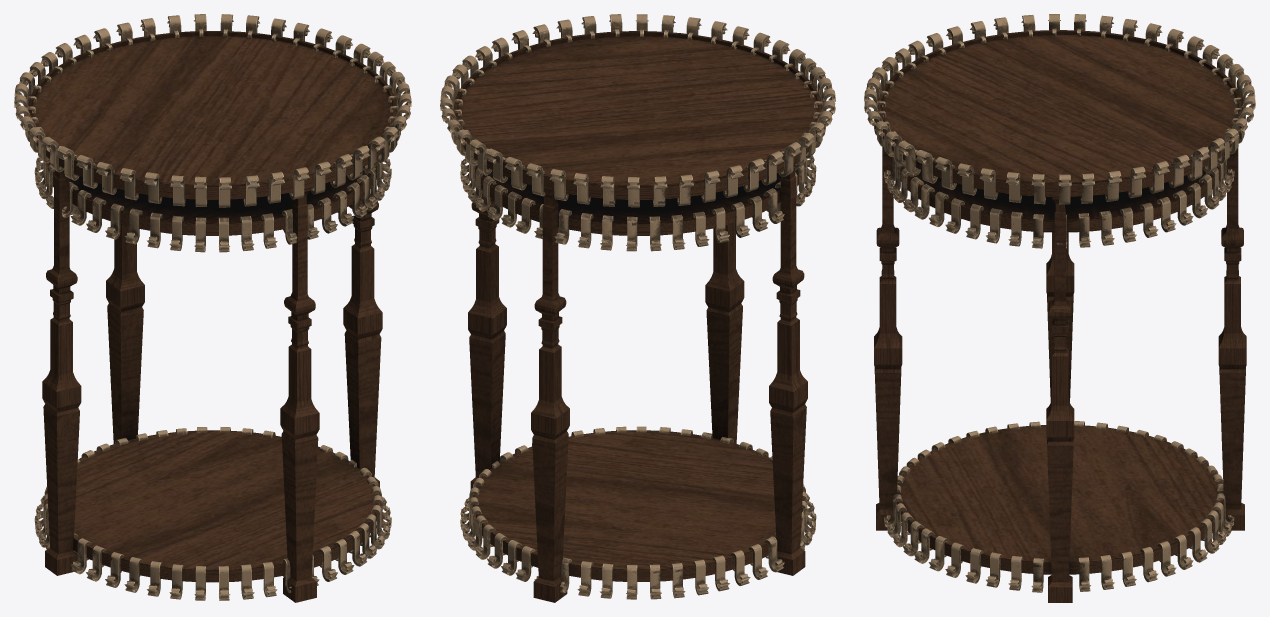
3 views of the same model, side by side, from view 1: azimuth 30°, elevation 25°; view 2: azimuth 150°, elevation 25°; view 3: azimuth 270°, elevation 25° (orthographic).
Parts seen in each view (by area): view 1: Table, Legs, Details; view 2: Table, Legs, Details; view 3: Table, Details, Legs.
Part boxes in pixels (x1,y1,x2,y2): Table: (28, 31, 396, 582); Legs: (42, 165, 382, 602); Details: (14, 14, 411, 600); Table: (454, 31, 822, 581); Legs: (468, 162, 807, 602); Details: (440, 14, 835, 599); Table: (877, 30, 1241, 574); Details: (864, 14, 1255, 592); Legs: (874, 138, 1246, 602).
Bounding box in the file's own units: 2.15 × 2.61 × 2.15.
4 materials, 4 textured.
